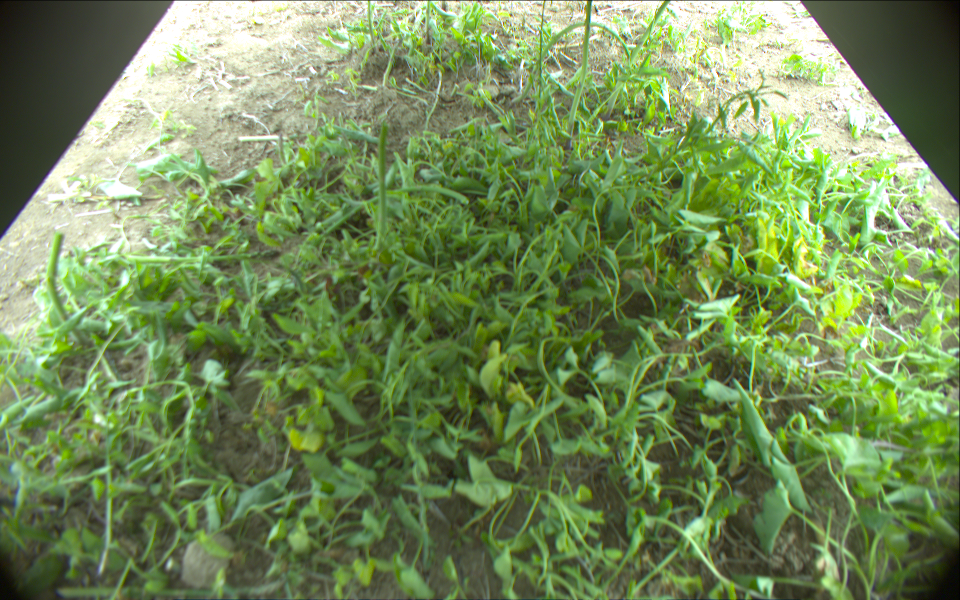aspa: (605, 1, 670, 119), (526, 20, 629, 90), (46, 234, 88, 347), (114, 242, 279, 261), (372, 124, 390, 250), (378, 40, 406, 88), (536, 1, 549, 100), (383, 34, 405, 86), (277, 132, 290, 166), (367, 1, 376, 45), (425, 1, 434, 41)
